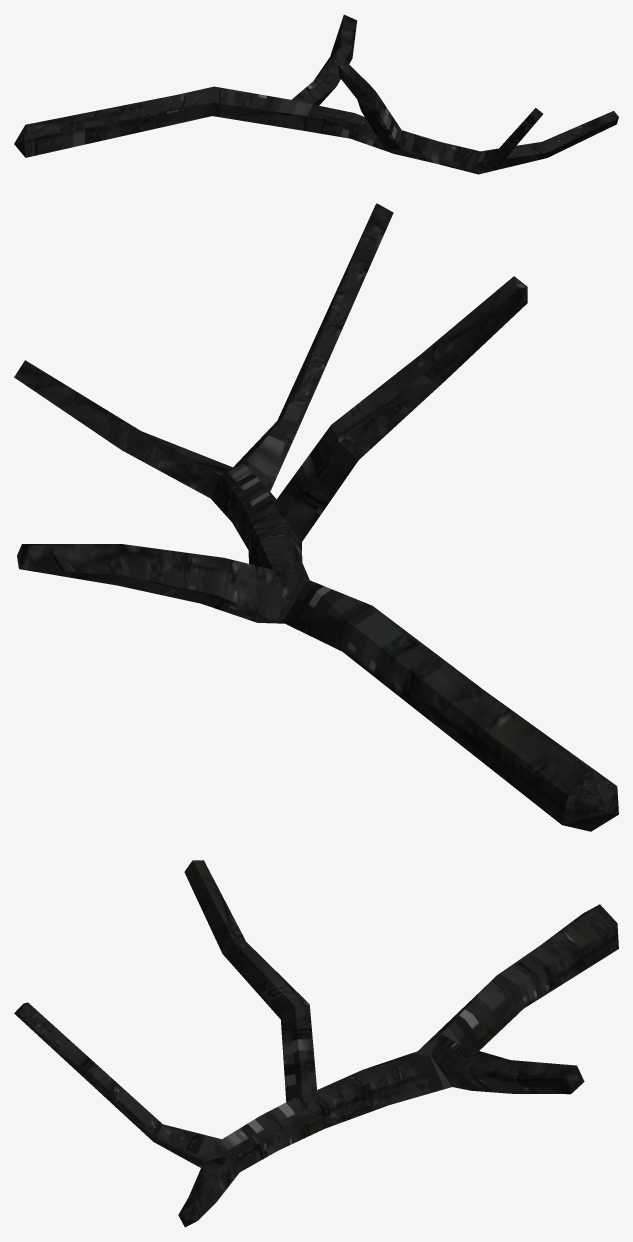
File: 1_BURNT_01_19-transformed.glb
3 renders of one model, top to bottom at view 1: azimuth 30°, elevation 25°; view 2: azimuth 150°, elevation 25°; view 3: azimuth 270°, elevation 25°, orthographic. The views are drawn at different scales.
Visible parts, largest first — view 1: default; view 2: default; view 3: default.
Part boxes in pixels (bbox=[...]): default: bbox=[14, 14, 618, 174]; default: bbox=[14, 203, 618, 831]; default: bbox=[14, 860, 618, 1227].
Bounding box in the file's own units: 3.14 × 0.9879 × 2.46.
Materials: 1 (1 with a texture image).
